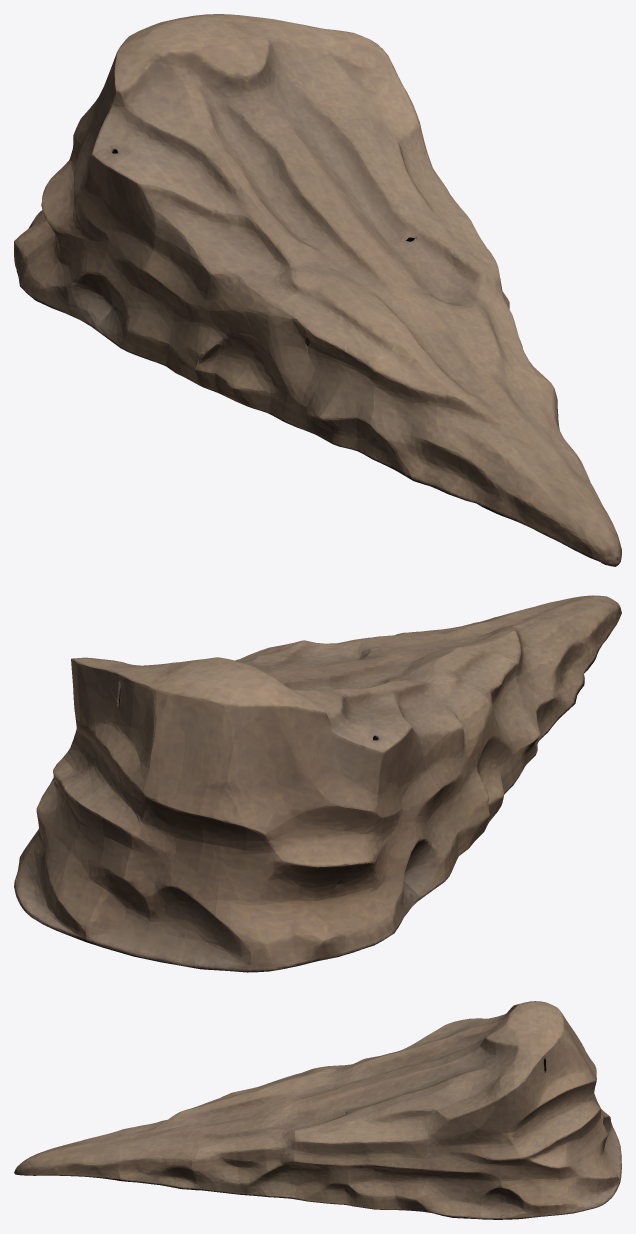
3 views of the same model, one above another, from view 1: azimuth 30°, elevation 25°; view 2: azimuth 150°, elevation 25°; view 3: azimuth 270°, elevation 25° (orthographic). The views are drawn at different scales.
Visible parts, largest first — view 1: world; view 2: world; view 3: world.
Boxes of the visible parts, bbox=[...] form: world: bbox=[14, 14, 621, 566]; world: bbox=[14, 595, 621, 972]; world: bbox=[14, 1001, 621, 1219].
Bounding box in the file's own units: 0.4194 × 0.2792 × 0.9943.
Materials: 1 (1 with a texture image).
